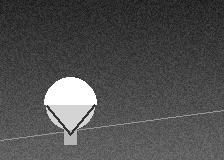helmet: (44, 77, 96, 134)
